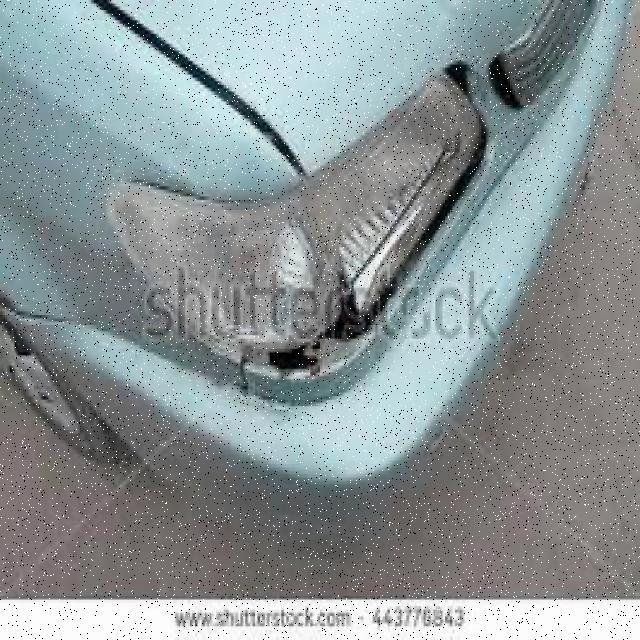car damage: (82, 9, 497, 416)
